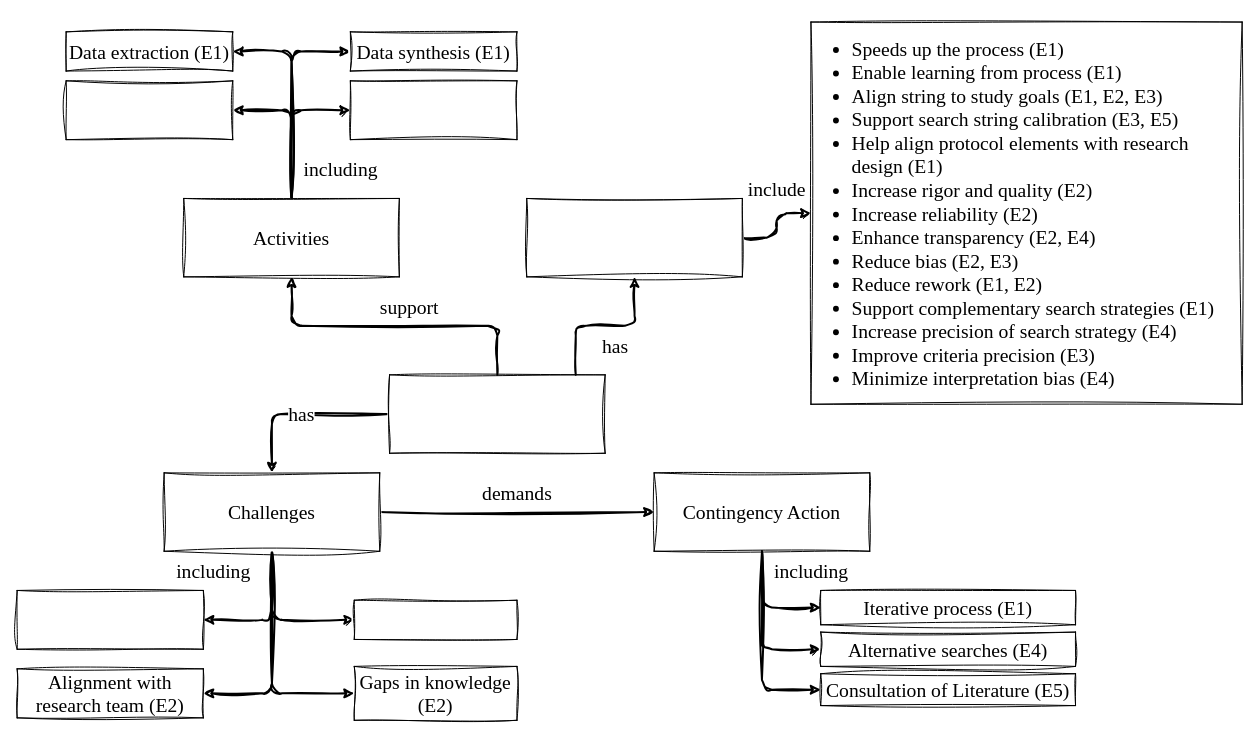
Image size: 1259x746. Some labels were removed from this diagram. Here are the shapes that lost their labels. From the top down, the box of each, then its label:
(65, 80, 233, 140): Selection Criteria definition (E5)
(349, 80, 517, 140): Research goal definition (E5)
(526, 197, 742, 277): Benefits
(389, 374, 605, 453): Expert involvement (domain, SS and industry)
(16, 589, 203, 649): Expert availability (E1, E2, E3, E4, E5)
(353, 599, 517, 639): Cost (E2)
